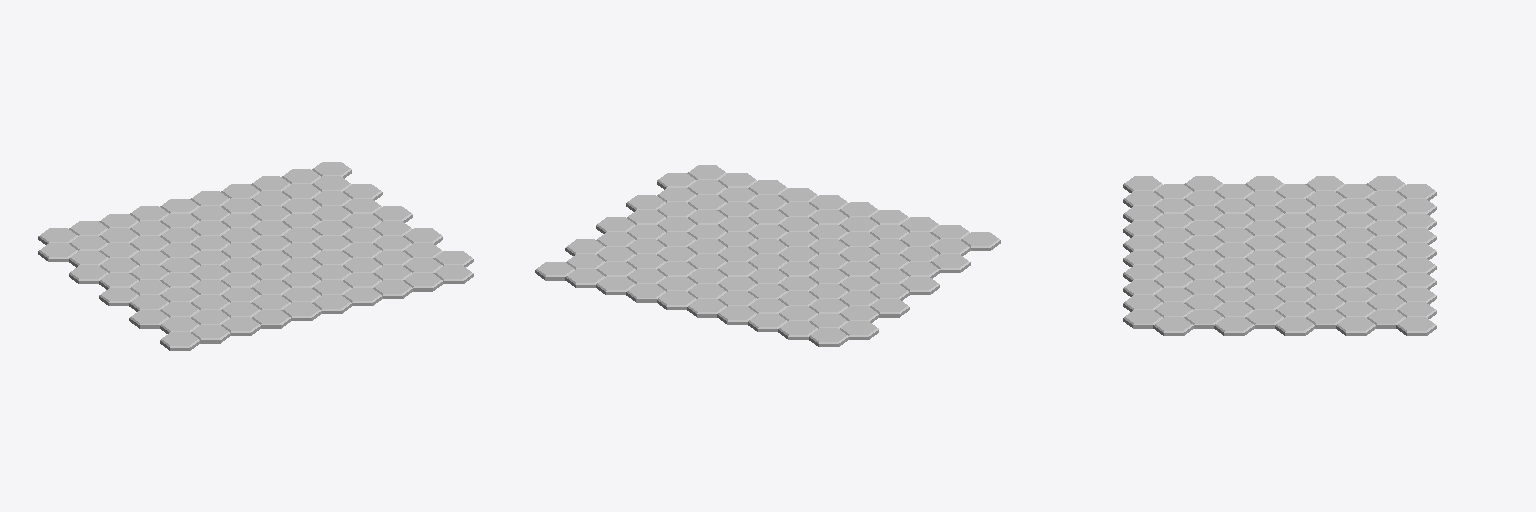
File: HexGrid.obj
3 views of the same model, side by side, from view 1: azimuth 30°, elevation 25°; view 2: azimuth 150°, elevation 25°; view 3: azimuth 270°, elevation 25° (orthographic).
Parts seen in each view (by area): view 1: HexTile.003; view 2: HexTile.003; view 3: HexTile.003.
Part boxes in pixels (x1,y1,x2,y2): HexTile.003: (38,162,473,350); HexTile.003: (535,165,1000,346); HexTile.003: (1123,176,1436,335).
Size of the model in its own units: 18.19 by 0.2497 by 15.5.